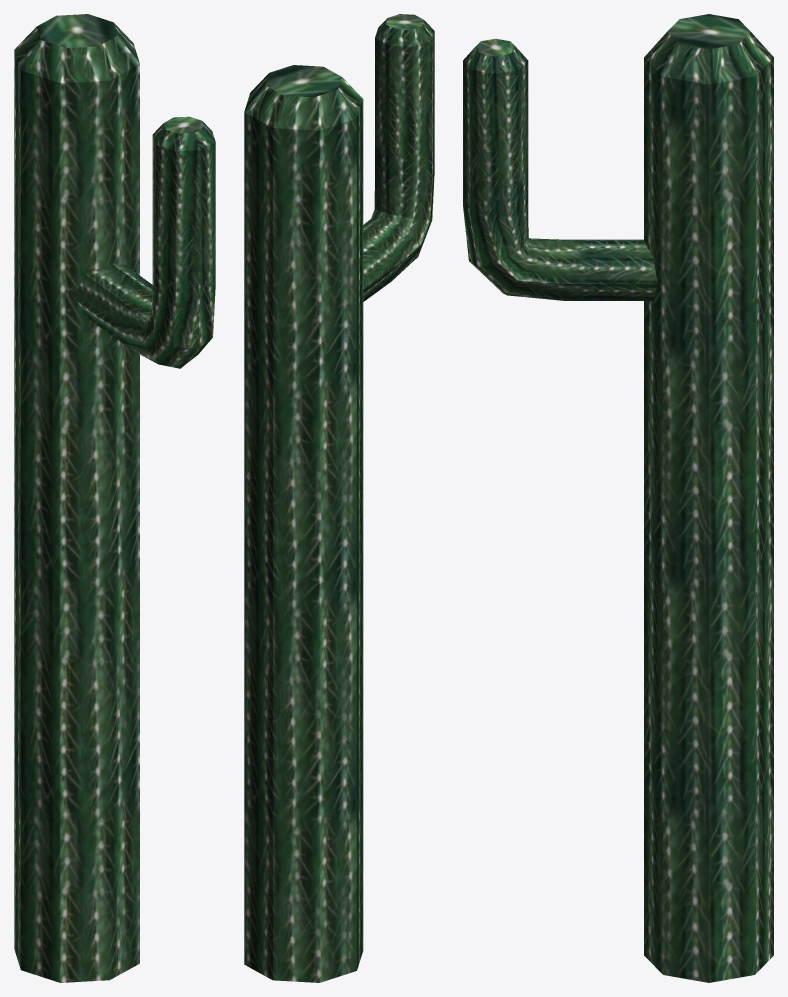
File: cactus_2.fbx
The picture shows the model from 3 angles, left to right: view 1: azimuth 30°, elevation 25°; view 2: azimuth 150°, elevation 25°; view 3: azimuth 270°, elevation 25°; orthographic projection. The views are drawn at different scales.
Parts seen in each view (by area): view 1: Cylinder; view 2: Cylinder; view 3: Cylinder.
Part boxes in pixels (box(x1,y1,x2,y2)): Cylinder: box(14, 14, 215, 982); Cylinder: box(244, 14, 434, 982); Cylinder: box(463, 14, 773, 982).
Size of the model in its own units: 80.51 by 632 by 193.
Materials: 1 (1 with a texture image).
